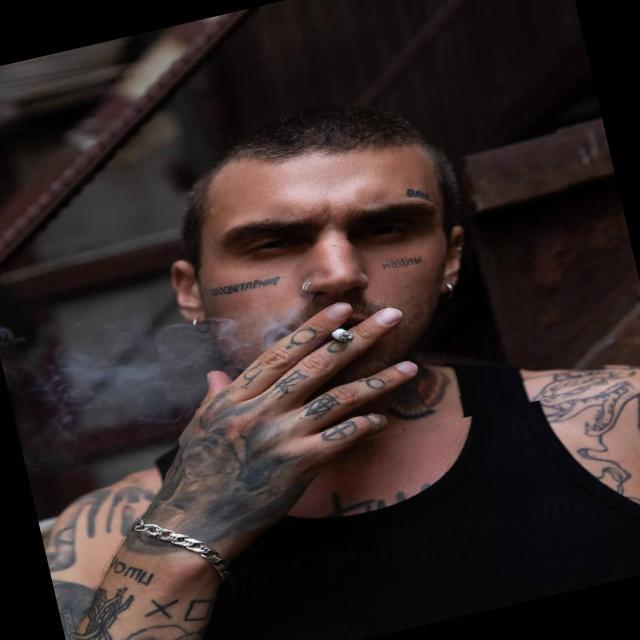cigarette: (302, 298, 400, 371)
